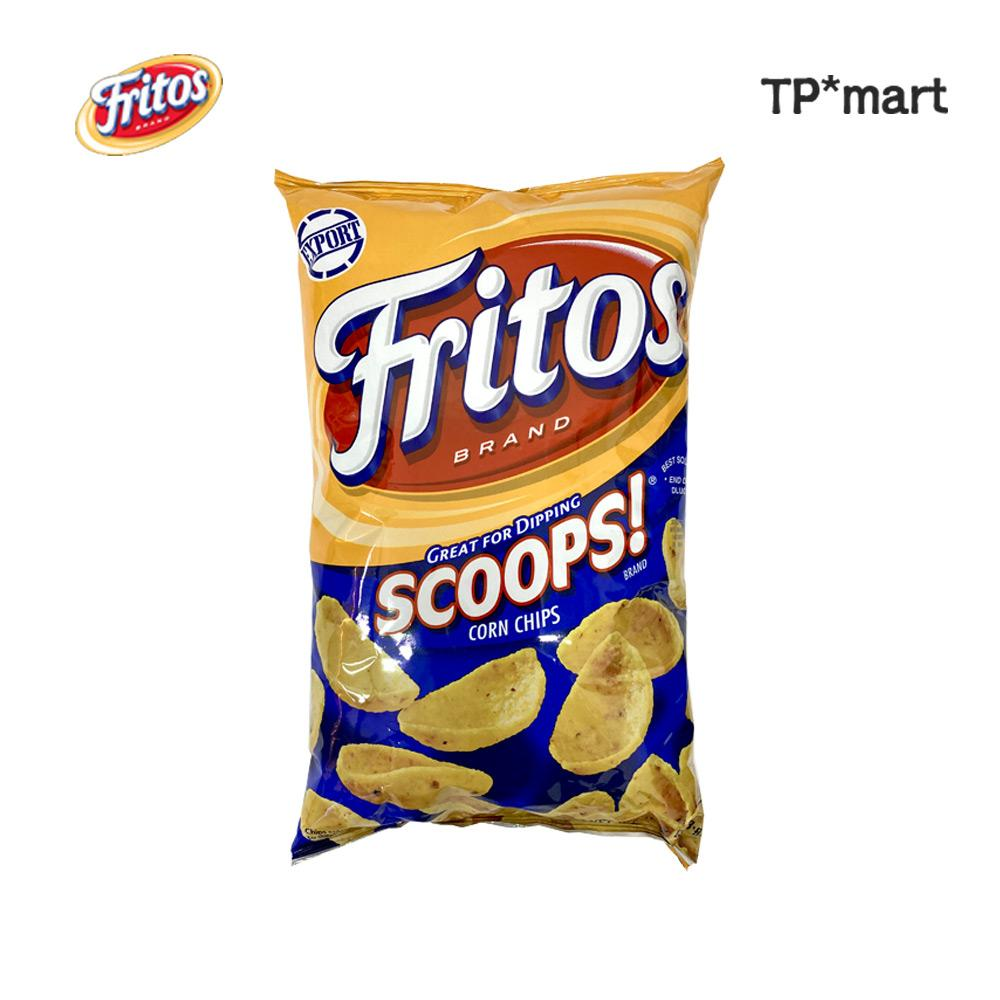snack: (273, 154, 726, 871)
